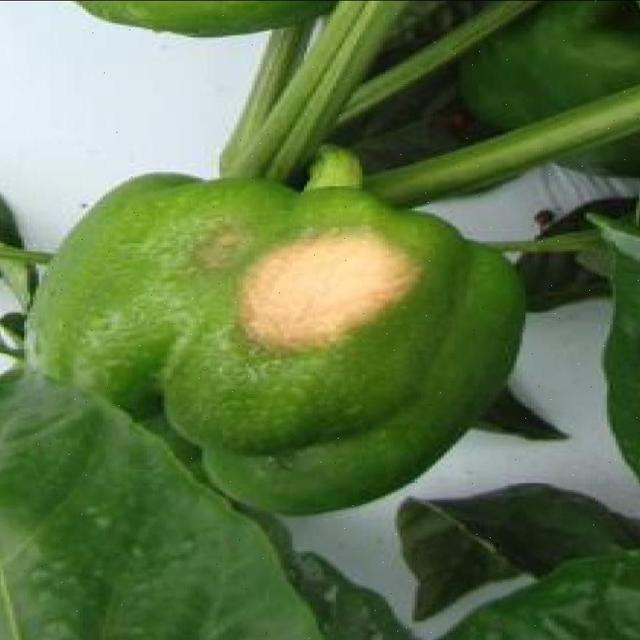Sunscald Fruit: (129, 144, 294, 232)
